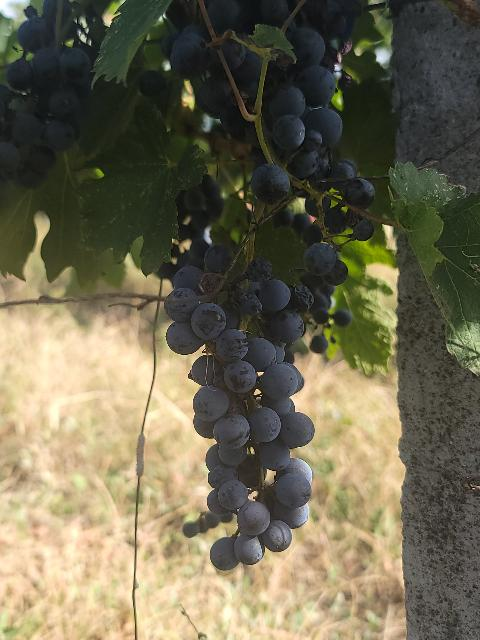grapes: (164, 245, 315, 570)
